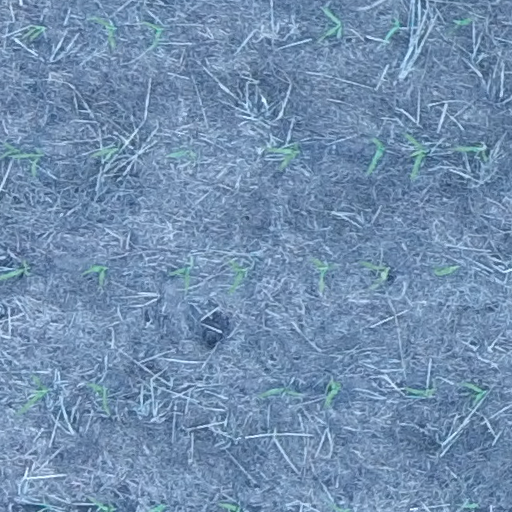planta: (16, 373, 49, 414), (402, 131, 426, 179), (261, 143, 300, 170), (85, 380, 111, 415), (8, 150, 44, 175), (360, 261, 389, 290), (307, 256, 329, 293), (319, 7, 343, 40), (226, 257, 247, 293), (89, 16, 115, 45), (366, 136, 385, 175), (453, 144, 488, 162), (258, 385, 302, 399), (82, 264, 107, 288), (460, 381, 486, 403), (322, 379, 341, 408), (168, 265, 190, 289), (144, 21, 164, 46), (89, 145, 121, 160), (383, 17, 401, 41), (432, 263, 462, 277), (405, 385, 436, 398), (24, 24, 48, 40), (165, 149, 196, 159), (453, 16, 472, 26)
